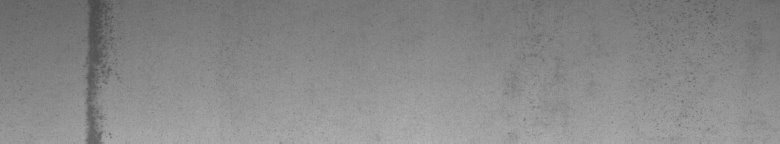hd: (80, 4, 120, 136)
